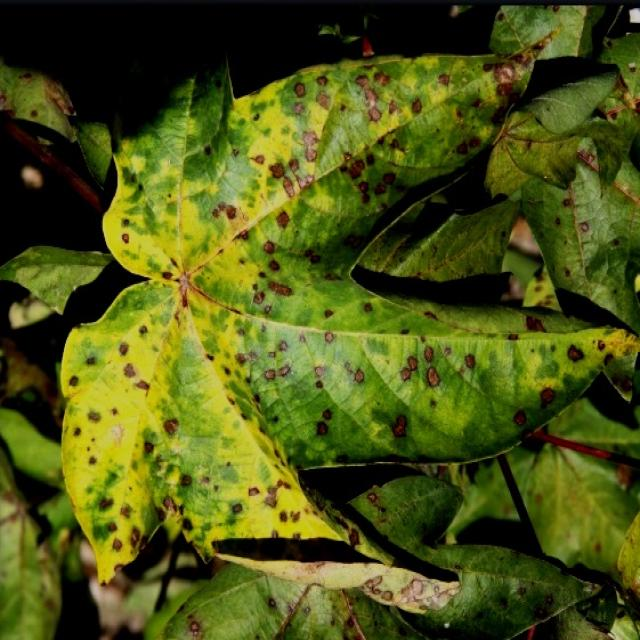Bacterial Blight: (136, 146, 416, 422)
